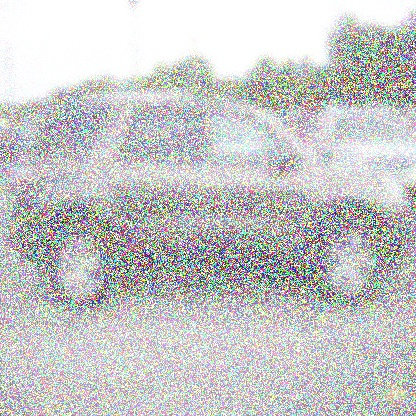Vehicle: (7, 90, 416, 314)
